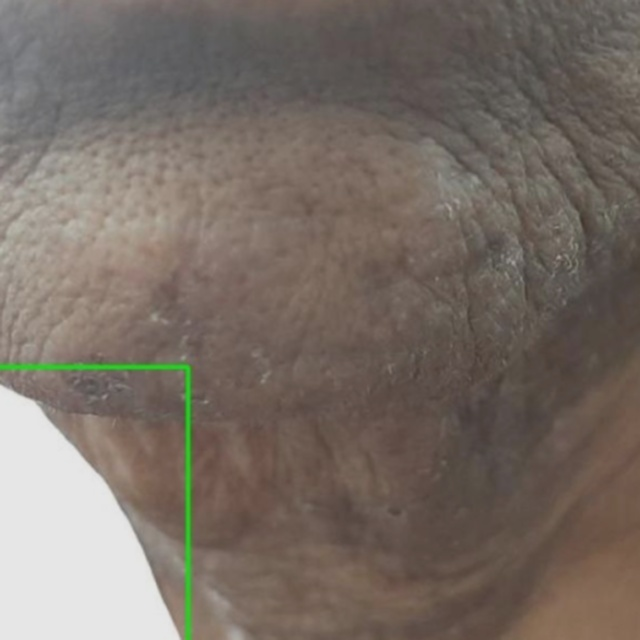Eczema: (0, 368, 189, 639)
